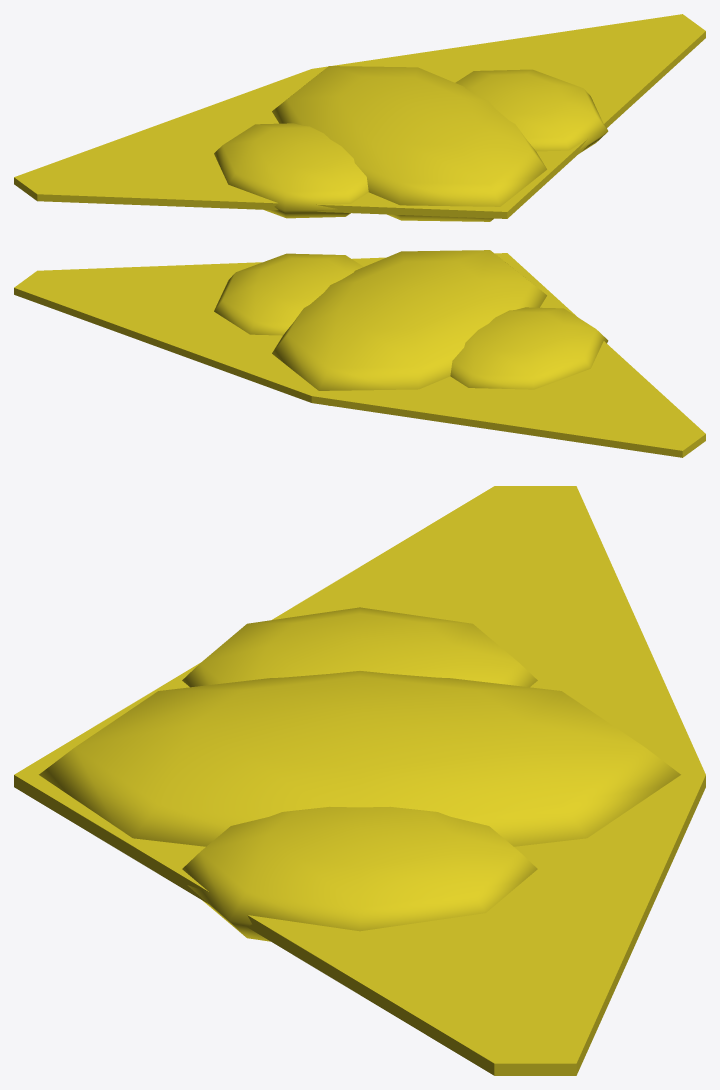
Rendered from fighter-flying-wing-503.glb.
3 renders of one model, top to bottom at view 1: azimuth 30°, elevation 25°; view 2: azimuth 150°, elevation 25°; view 3: azimuth 270°, elevation 25°, orthographic. The views are drawn at different scales.
Bounding box in the file's own units: 1.91 × 0.2065 × 0.9655.
